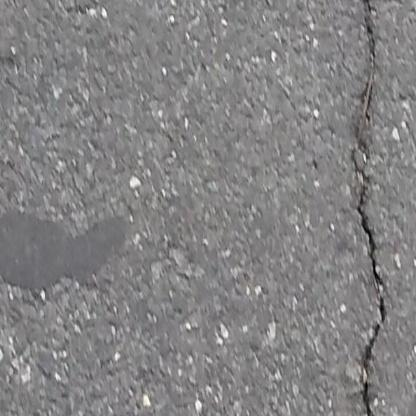Cracks: (351, 0, 392, 416)
